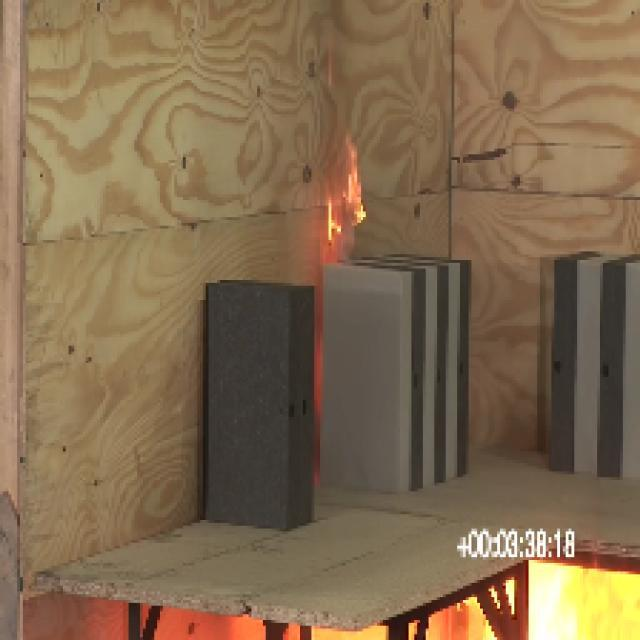Fire: (532, 559, 584, 640), (327, 156, 363, 256)
